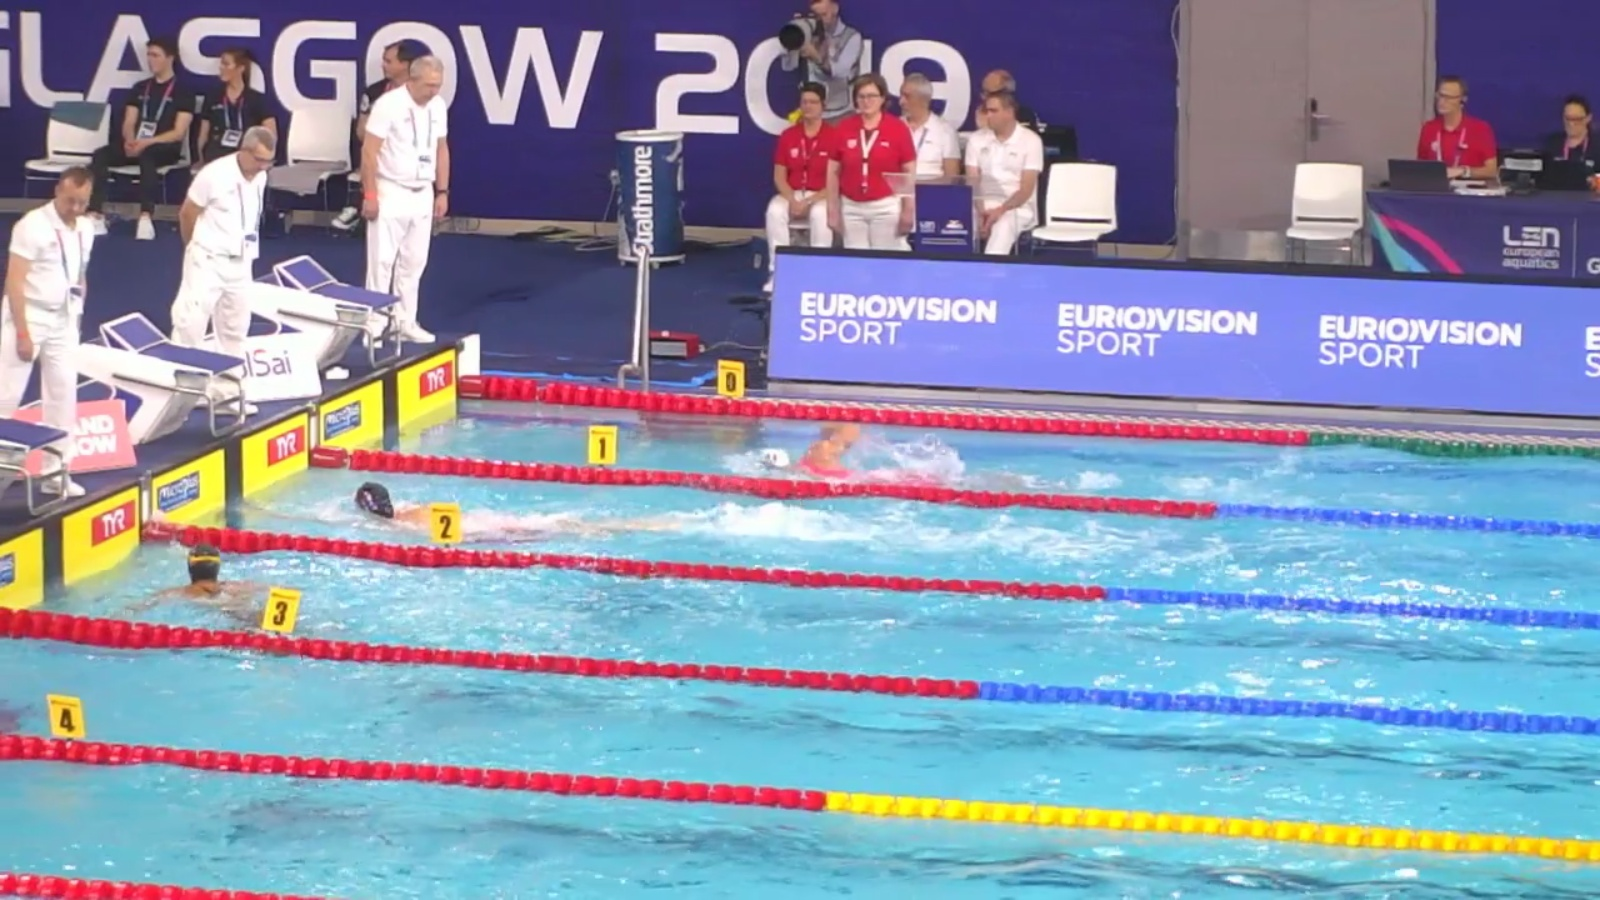swimmerw: (251, 481, 678, 544), (733, 413, 879, 484), (122, 545, 267, 611)
